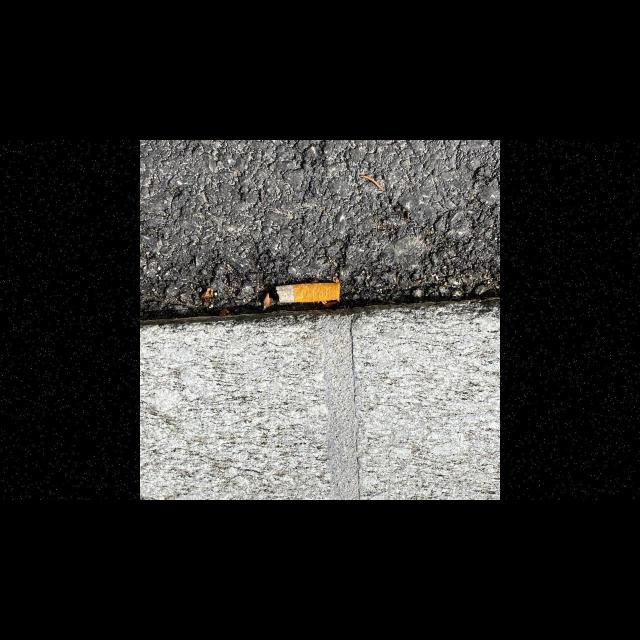cigarette: (275, 282, 341, 302)
